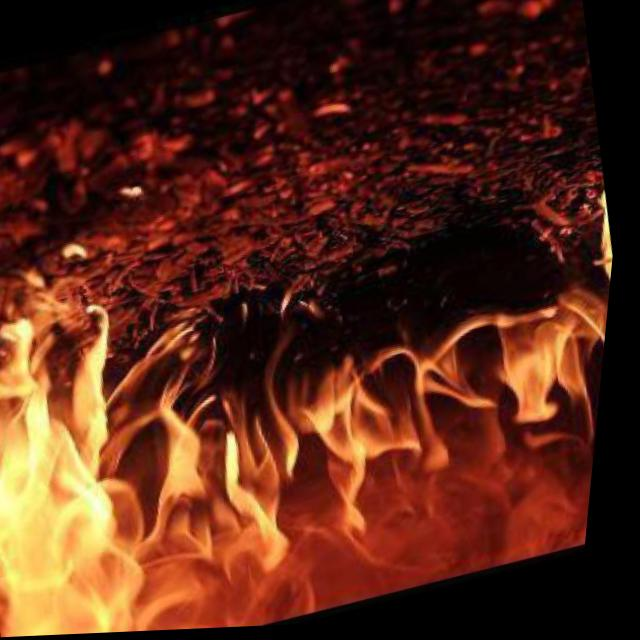Fire: (0, 167, 626, 640)
